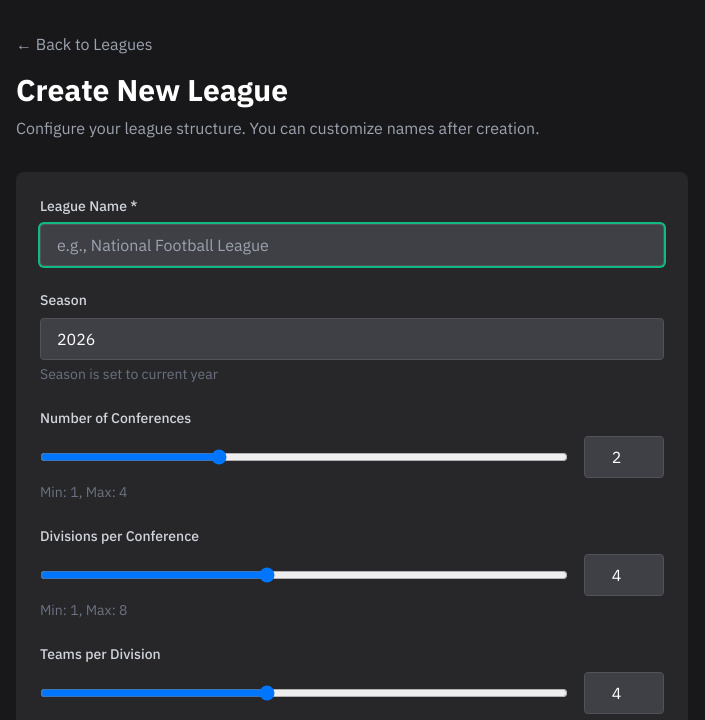
Test case: CreateLeaguePage › should disable submit button when name is empty
The width and height of the screenshot is (705, 720).
Expected: the heading "Create New League" is shown, [16,70,288,109]
// Type a name - button should become enabled
Type "Test League" into the field labelled "League Name *". click: (352, 245)
box: [40,224,664,266]
(page scrolled)
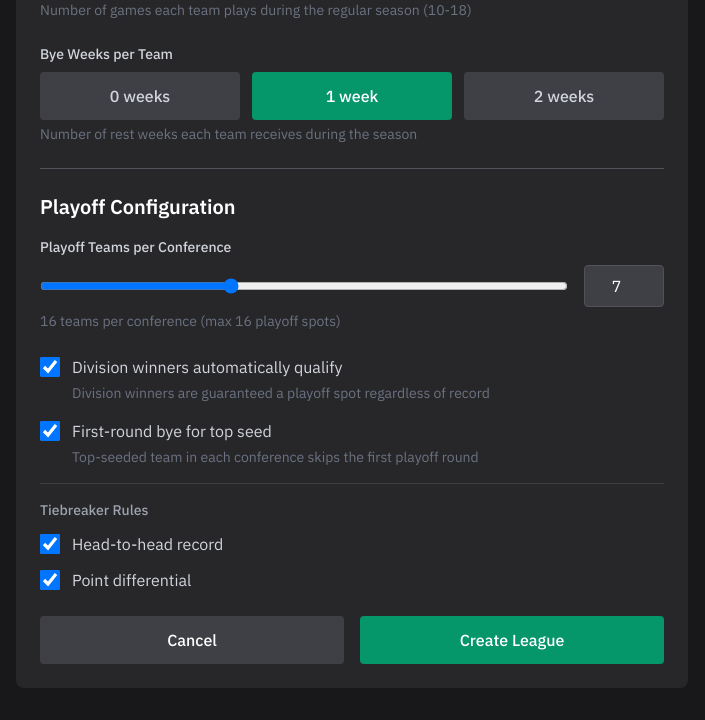
Result: the button "Create League" is enabled at [360,616,664,664]
